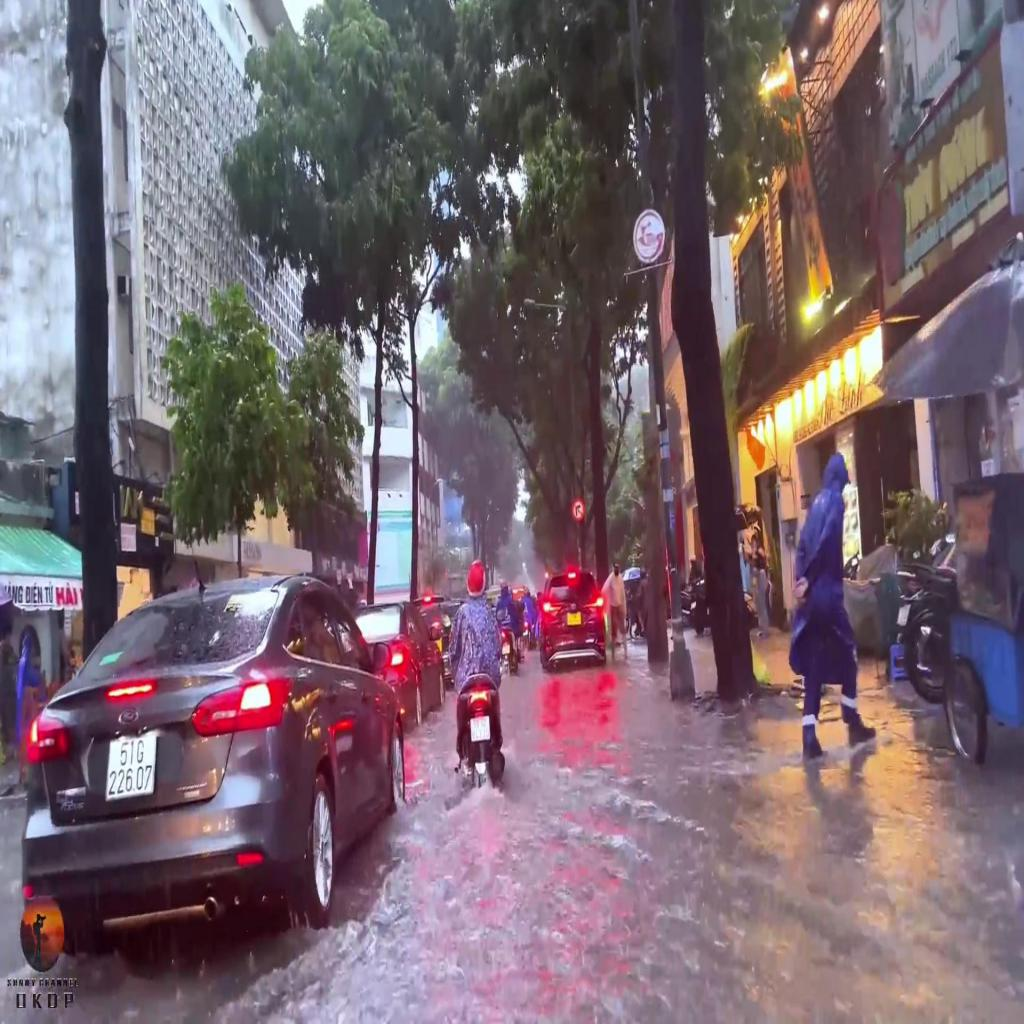cam_re_phai: (570, 497, 586, 523)
